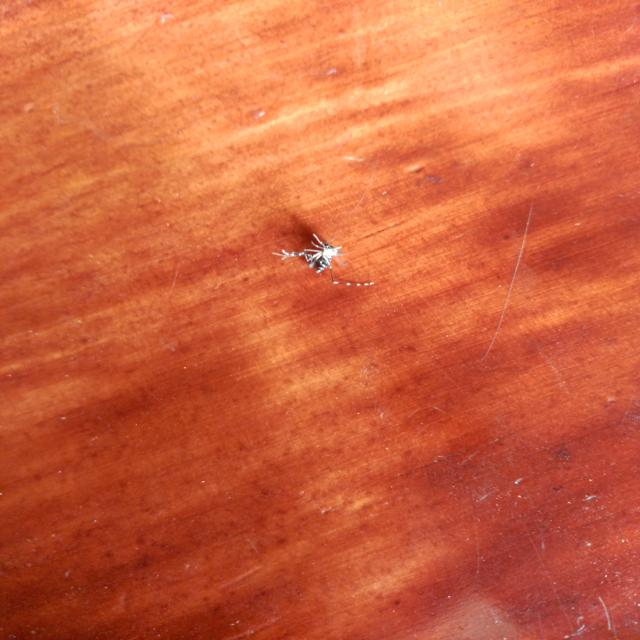albopictus: (267, 224, 372, 289)
